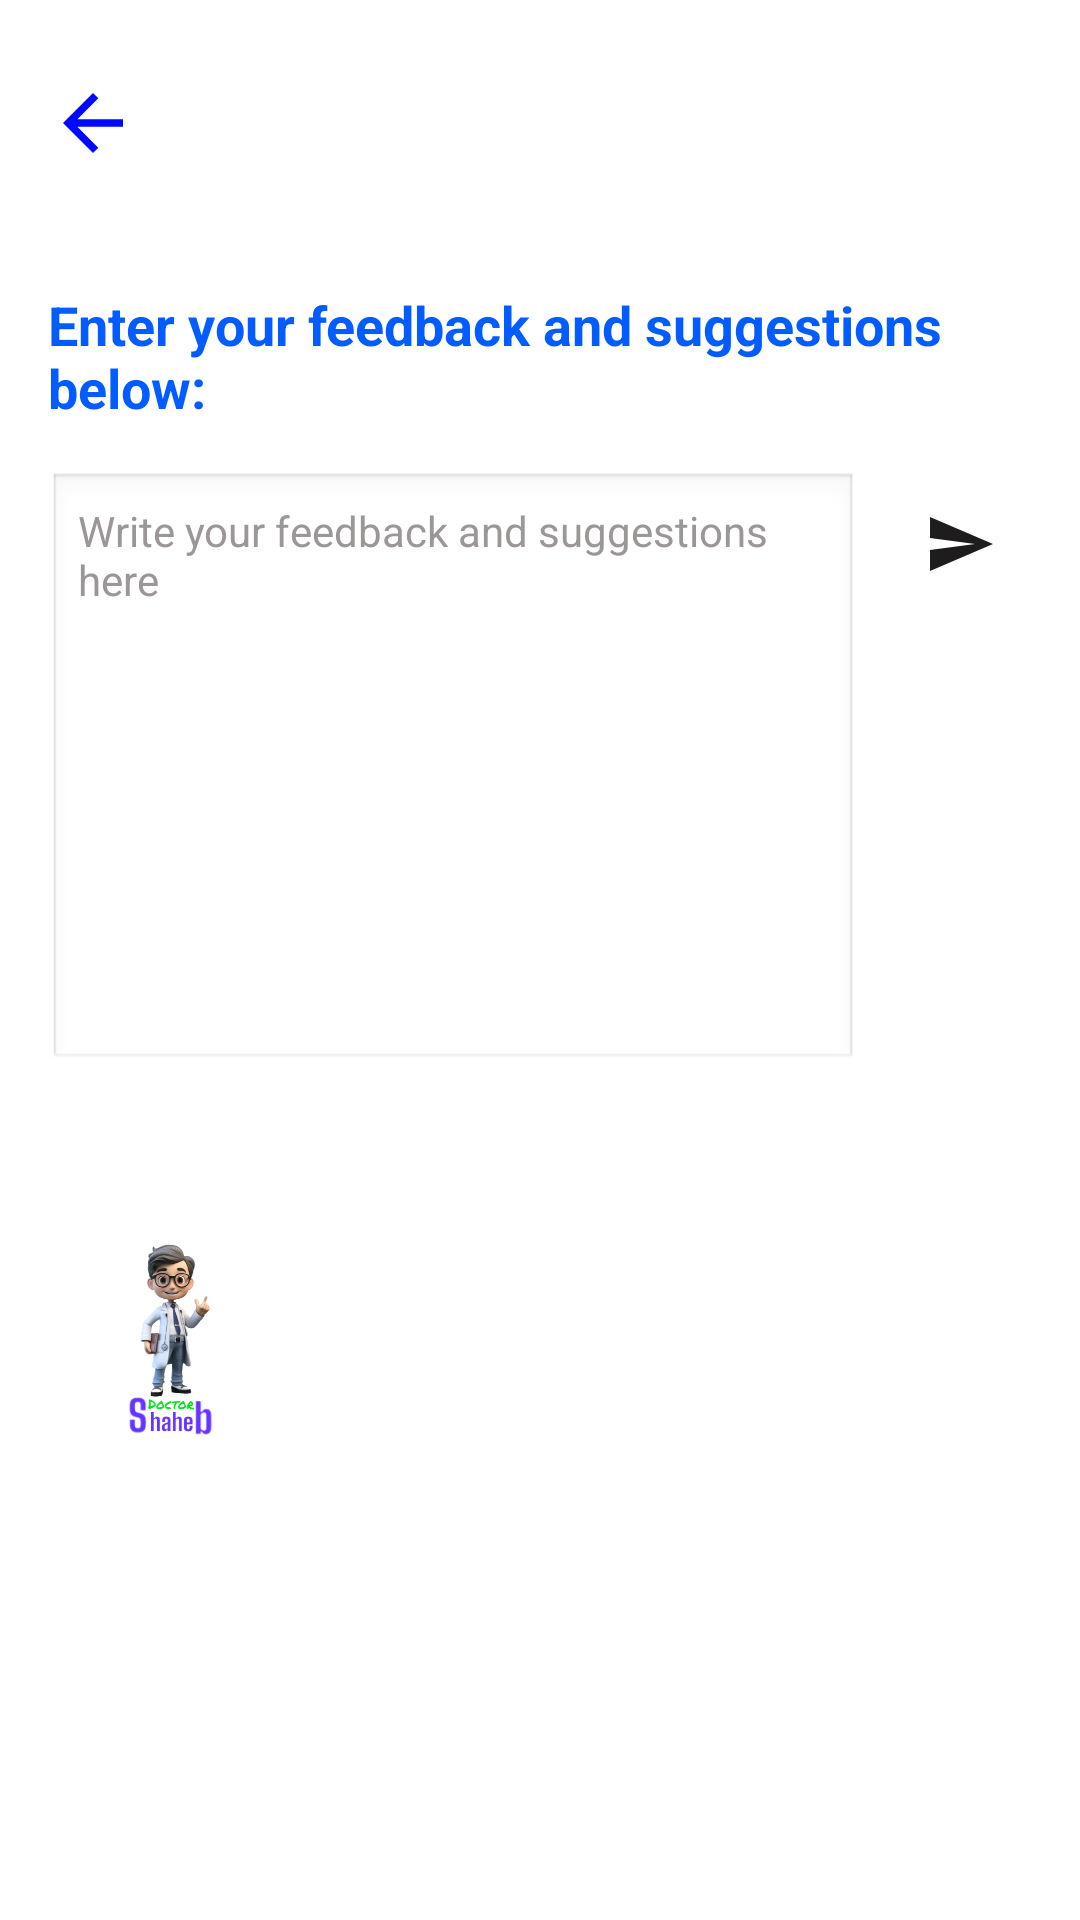

Icon click points for this 1080 × 1920 phone screenshot, format [x,y]:
Send: [961,544]
